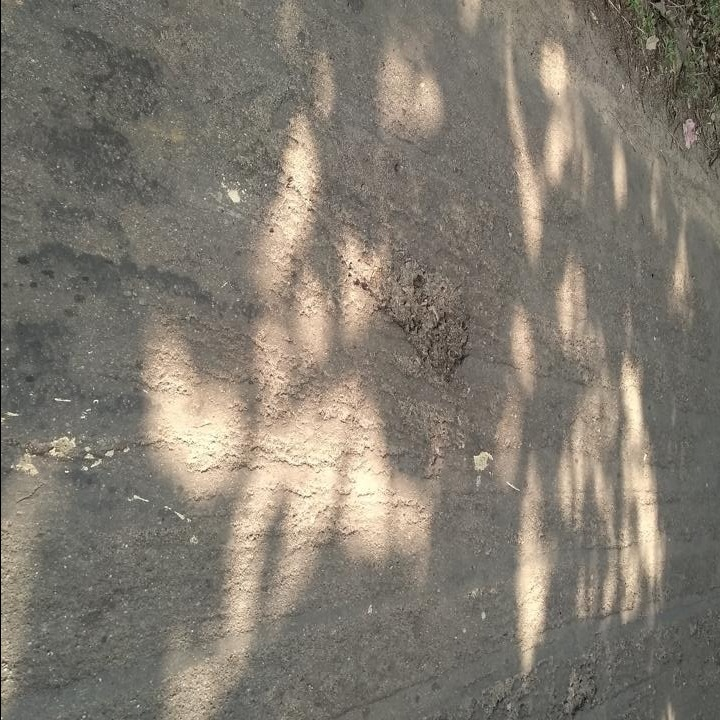pothole: (338, 253, 476, 385), (559, 662, 600, 720)
